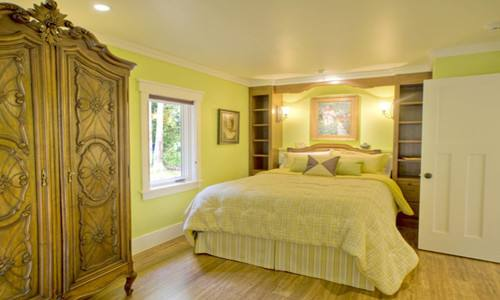床: (180, 166, 411, 283)
枕头: (278, 147, 384, 180)
灯: (275, 102, 294, 126), (321, 74, 347, 91), (378, 102, 395, 123), (89, 4, 111, 16)
